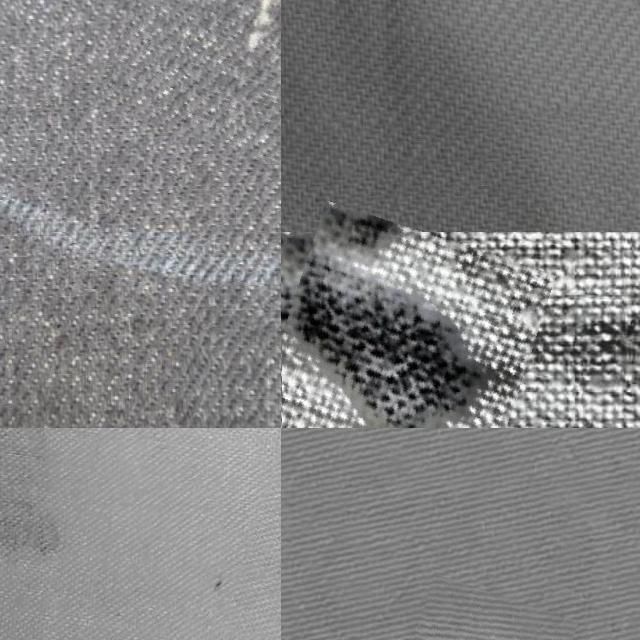Thread_other: (281, 217, 539, 428), (0, 428, 102, 577), (241, 428, 281, 640), (176, 530, 236, 614)
other: (396, 583, 568, 640)
stains: (116, 0, 281, 156)
